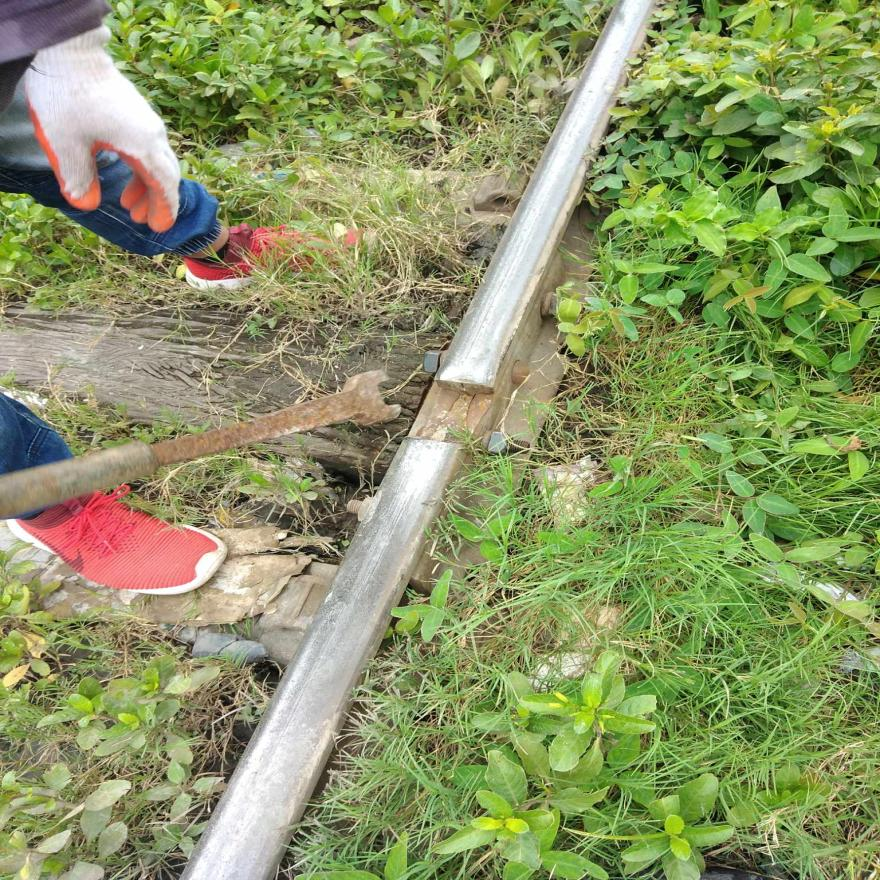railway-gap: (390, 354, 520, 470)
